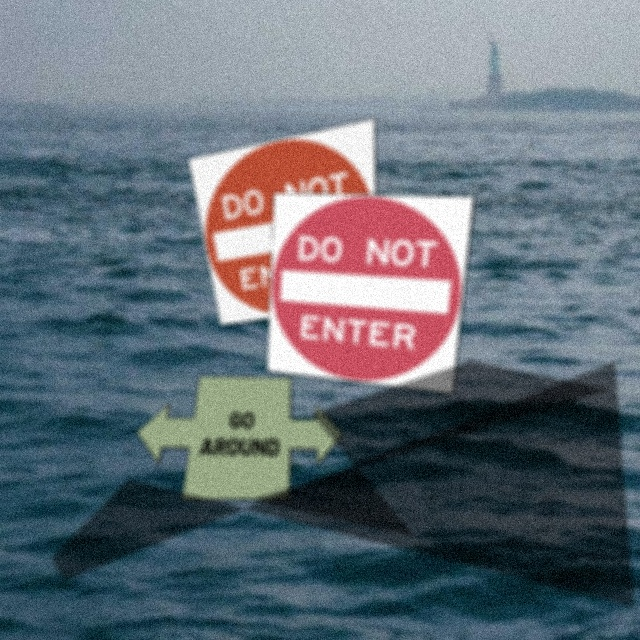DO_NOT_ENTER: (266, 192, 475, 395), (187, 117, 378, 326)
GO_AROUND: (135, 375, 344, 501)
